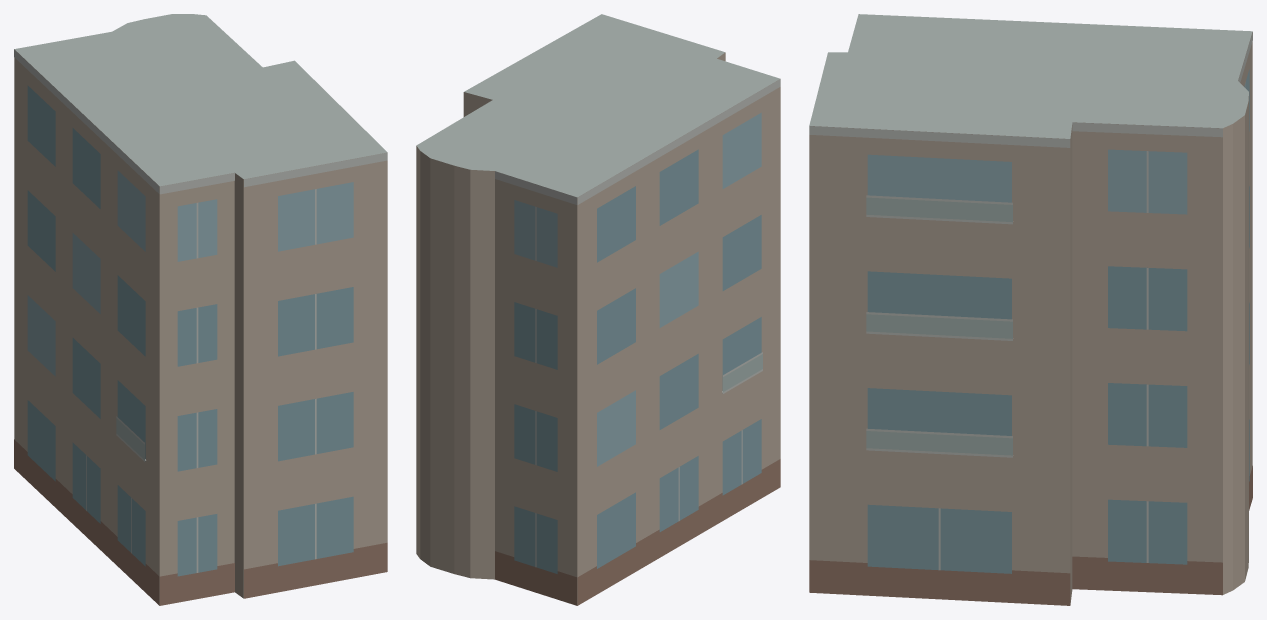
The model's file is survey-upis-32978673.glb.
The picture shows the model from 3 angles, left to right: view 1: azimuth 30°, elevation 25°; view 2: azimuth 150°, elevation 25°; view 3: azimuth 270°, elevation 25°; orthographic projection. The views are drawn at different scales.
Parts seen in each view (by area): view 1: survey-upis-32978673.tmp; view 2: survey-upis-32978673.tmp; view 3: survey-upis-32978673.tmp.
Boxes of the visible parts, x1,y1,x2,y2 form: survey-upis-32978673.tmp: [14, 14, 387, 605]; survey-upis-32978673.tmp: [416, 14, 780, 605]; survey-upis-32978673.tmp: [809, 14, 1252, 605].
Bounding box in the file's own units: 7.3 × 12.7 × 10.95.
